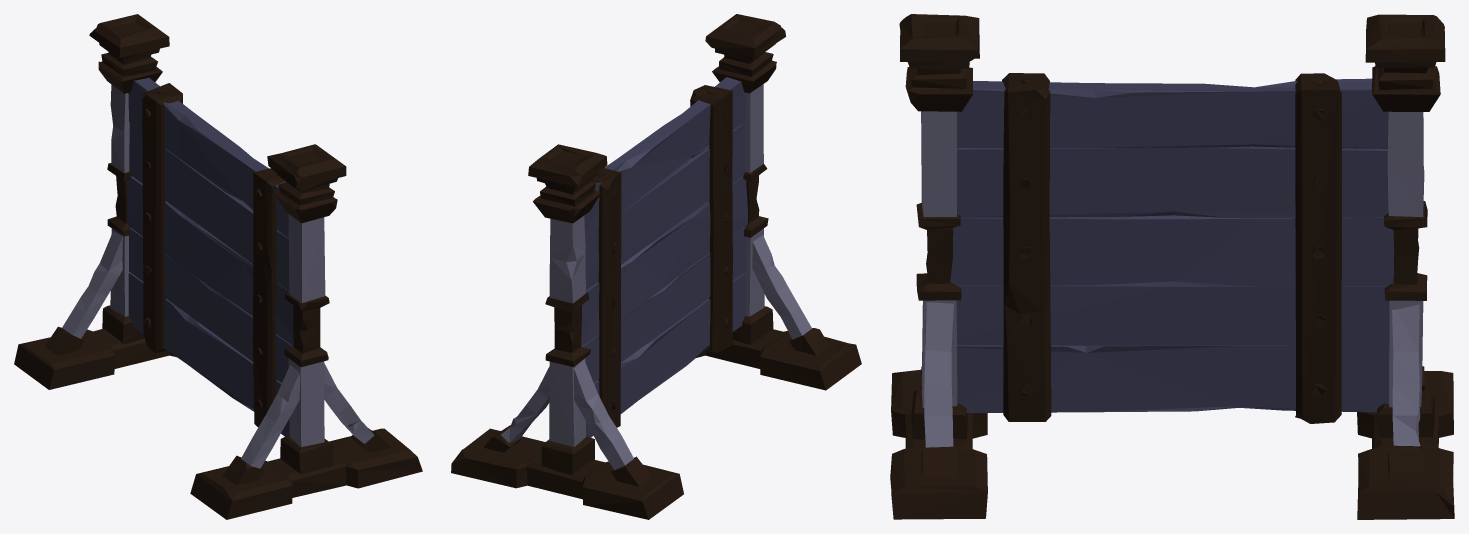
Rendered from SFFA_Weapon_Rack_002.fbx.
3 views of the same model, side by side, from view 1: azimuth 30°, elevation 25°; view 2: azimuth 150°, elevation 25°; view 3: azimuth 270°, elevation 25° (orthographic). The views are drawn at different scales.
Visible parts, largest first — view 1: SFFA_Weapon_Rack_002; view 2: SFFA_Weapon_Rack_002; view 3: SFFA_Weapon_Rack_002.
Boxes of the visible parts, box(x1,y1,x2,y2) form: SFFA_Weapon_Rack_002: box(14, 14, 422, 519); SFFA_Weapon_Rack_002: box(451, 14, 861, 519); SFFA_Weapon_Rack_002: box(890, 14, 1454, 519).
Size of the model in its own units: 71.57 by 113 by 135.
